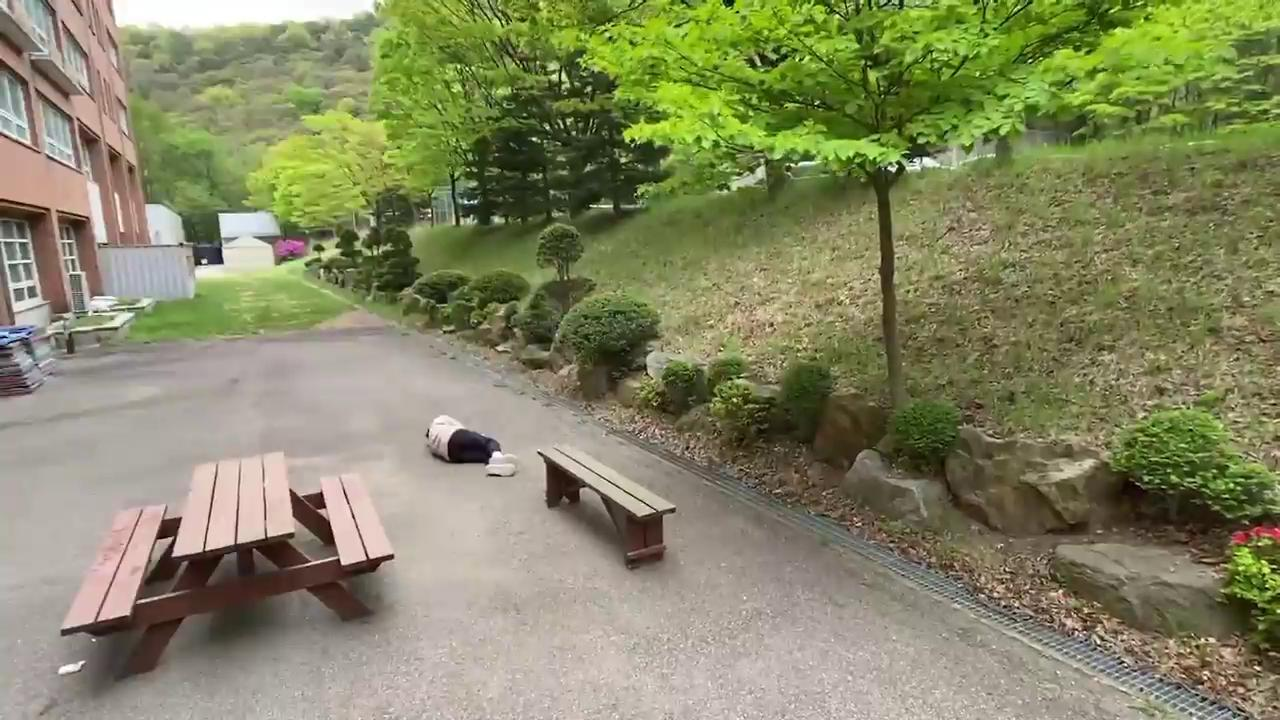faint: (423, 416, 520, 479)
